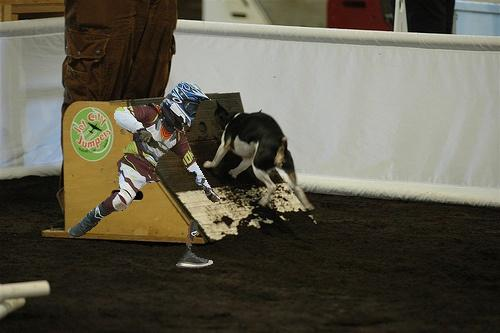tampered: (68, 82, 220, 268)
